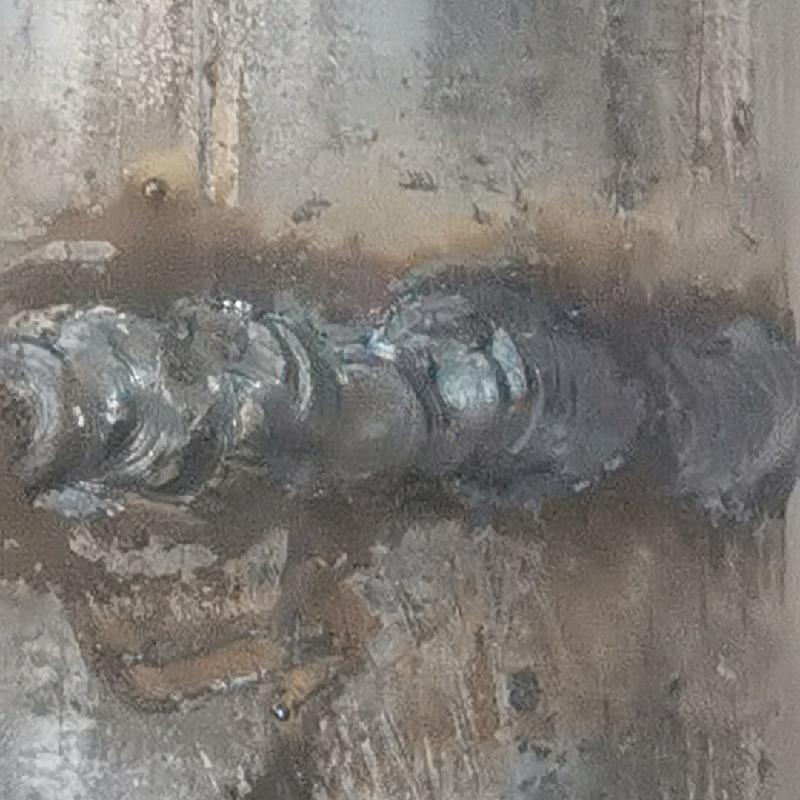good: (2, 283, 799, 508)
